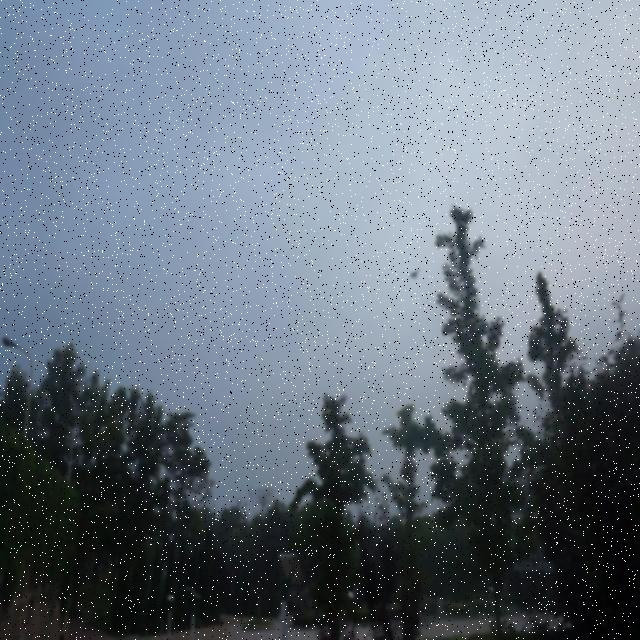UAV: (408, 268, 420, 281)
